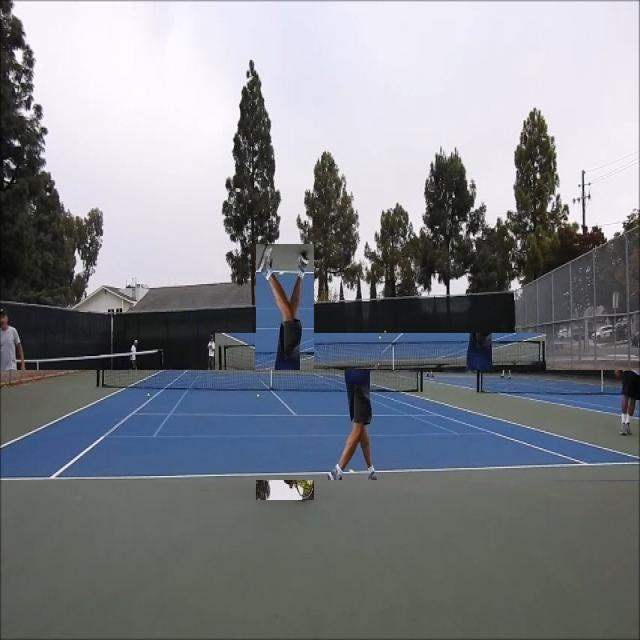court: (0, 370, 640, 480)
net: (215, 333, 548, 400)
player: (256, 244, 314, 500)
